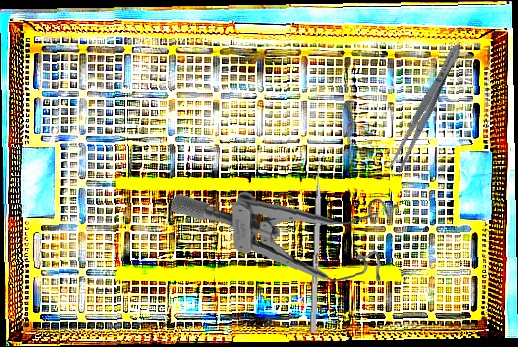Dressing Forceps: (386, 39, 467, 176)
Pusher: (309, 147, 324, 334)
Speculum: (169, 182, 405, 293)
